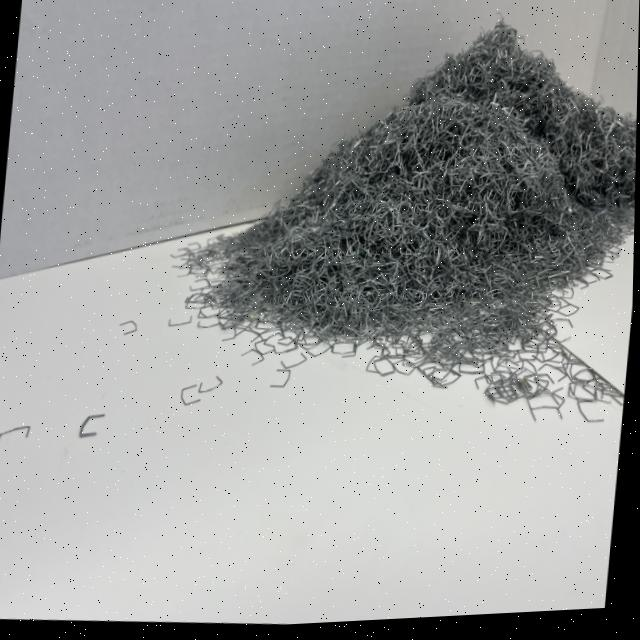staples: (174, 0, 640, 391)
